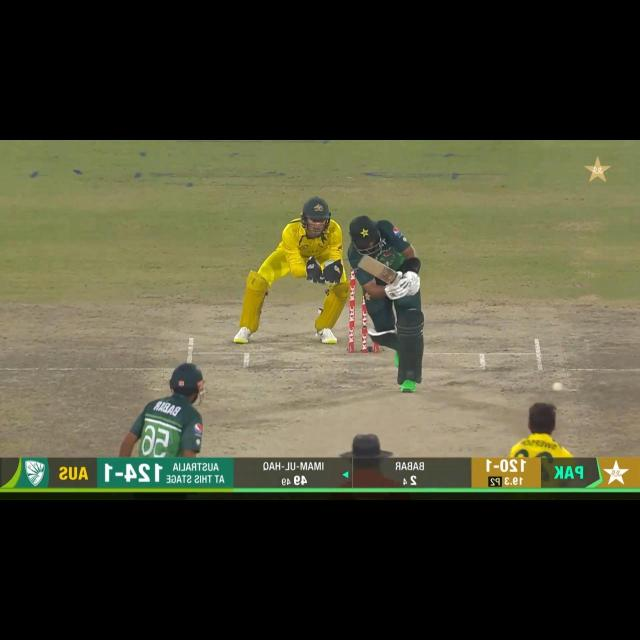bat: (355, 250, 398, 284)
toe: (355, 252, 372, 270)
